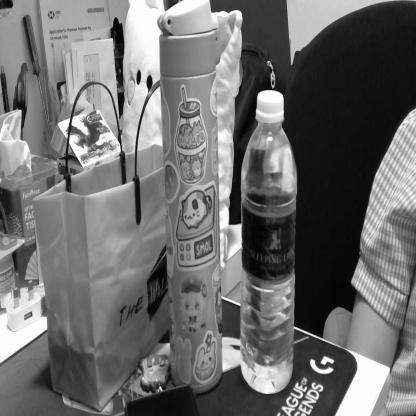plastic_bottles: (240, 89, 298, 397)
